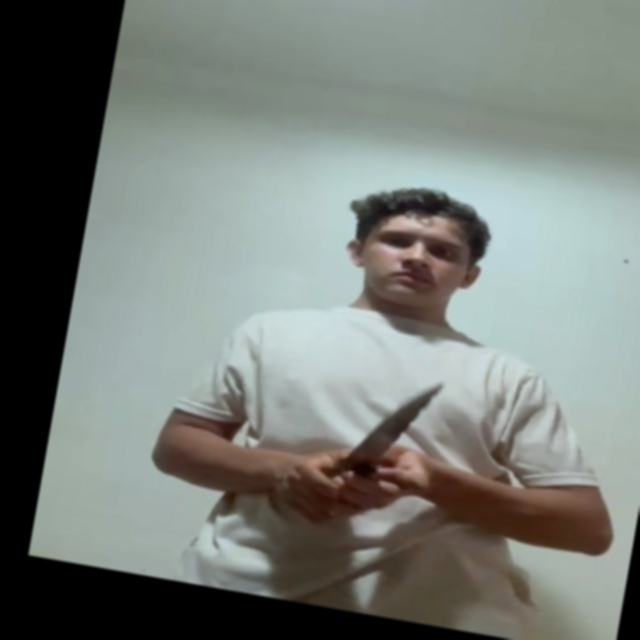Sharp-Object: (354, 373, 447, 476)
